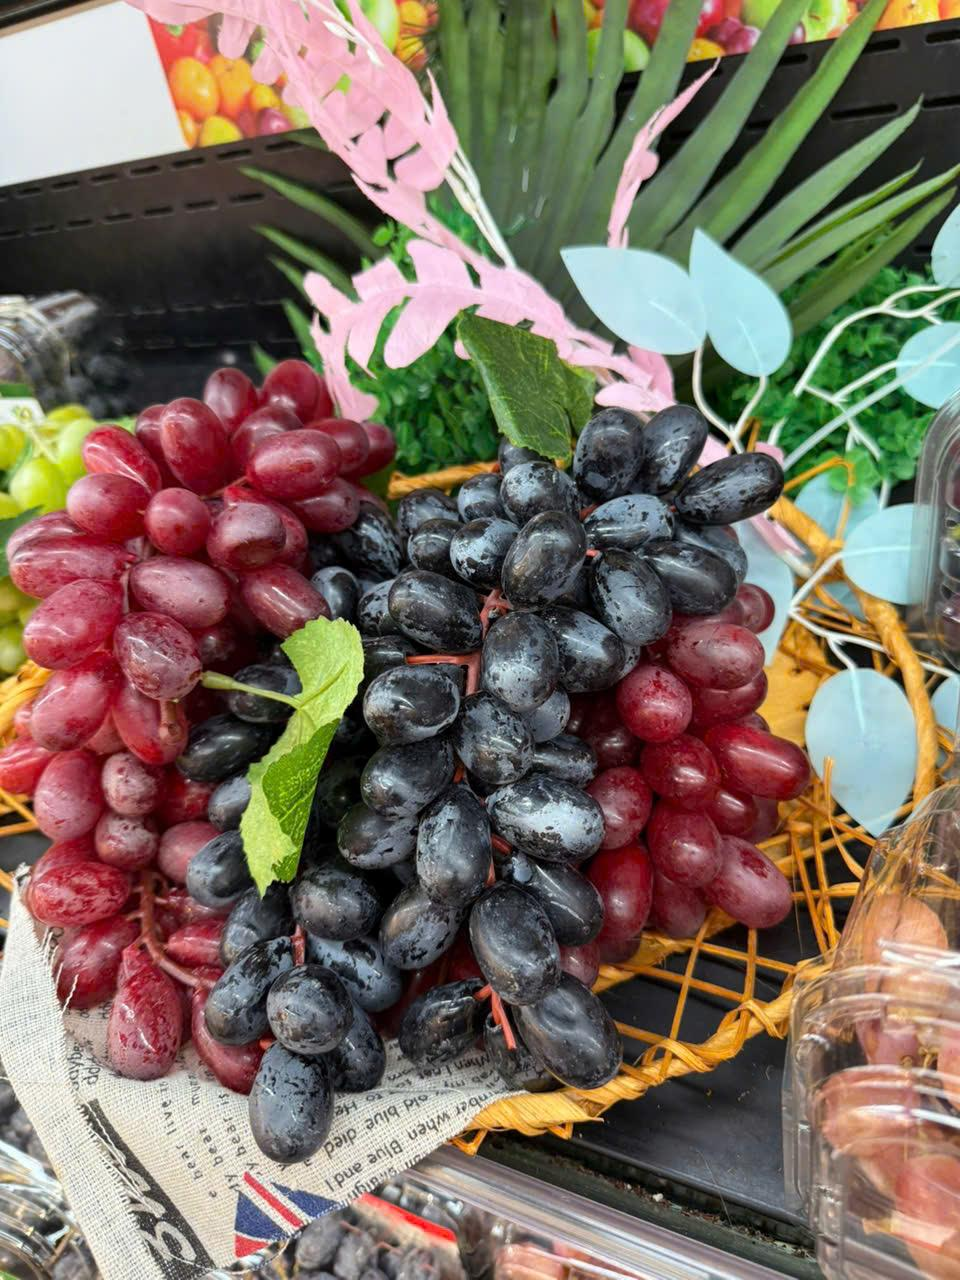grape: (67, 393, 309, 974), (367, 500, 592, 1007), (653, 620, 823, 941)
